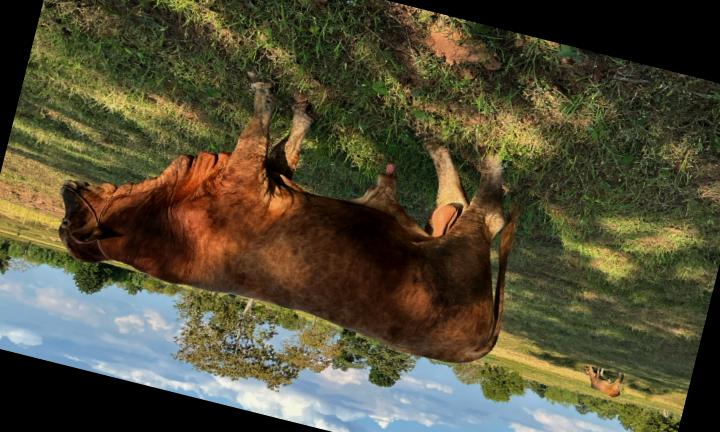Charolais: (58, 72, 519, 362)
